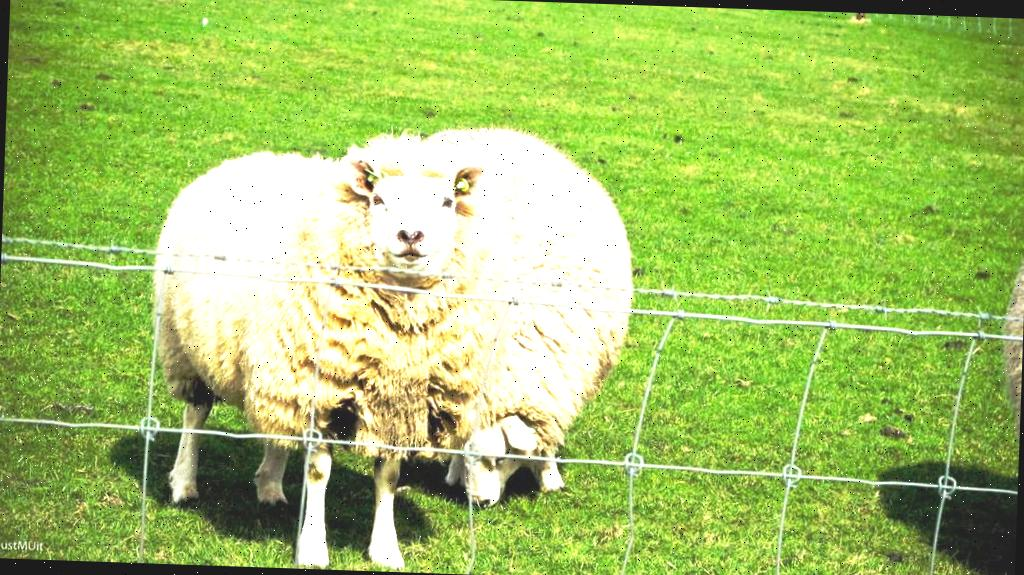Sheep: (139, 118, 515, 574), (416, 128, 634, 512)
